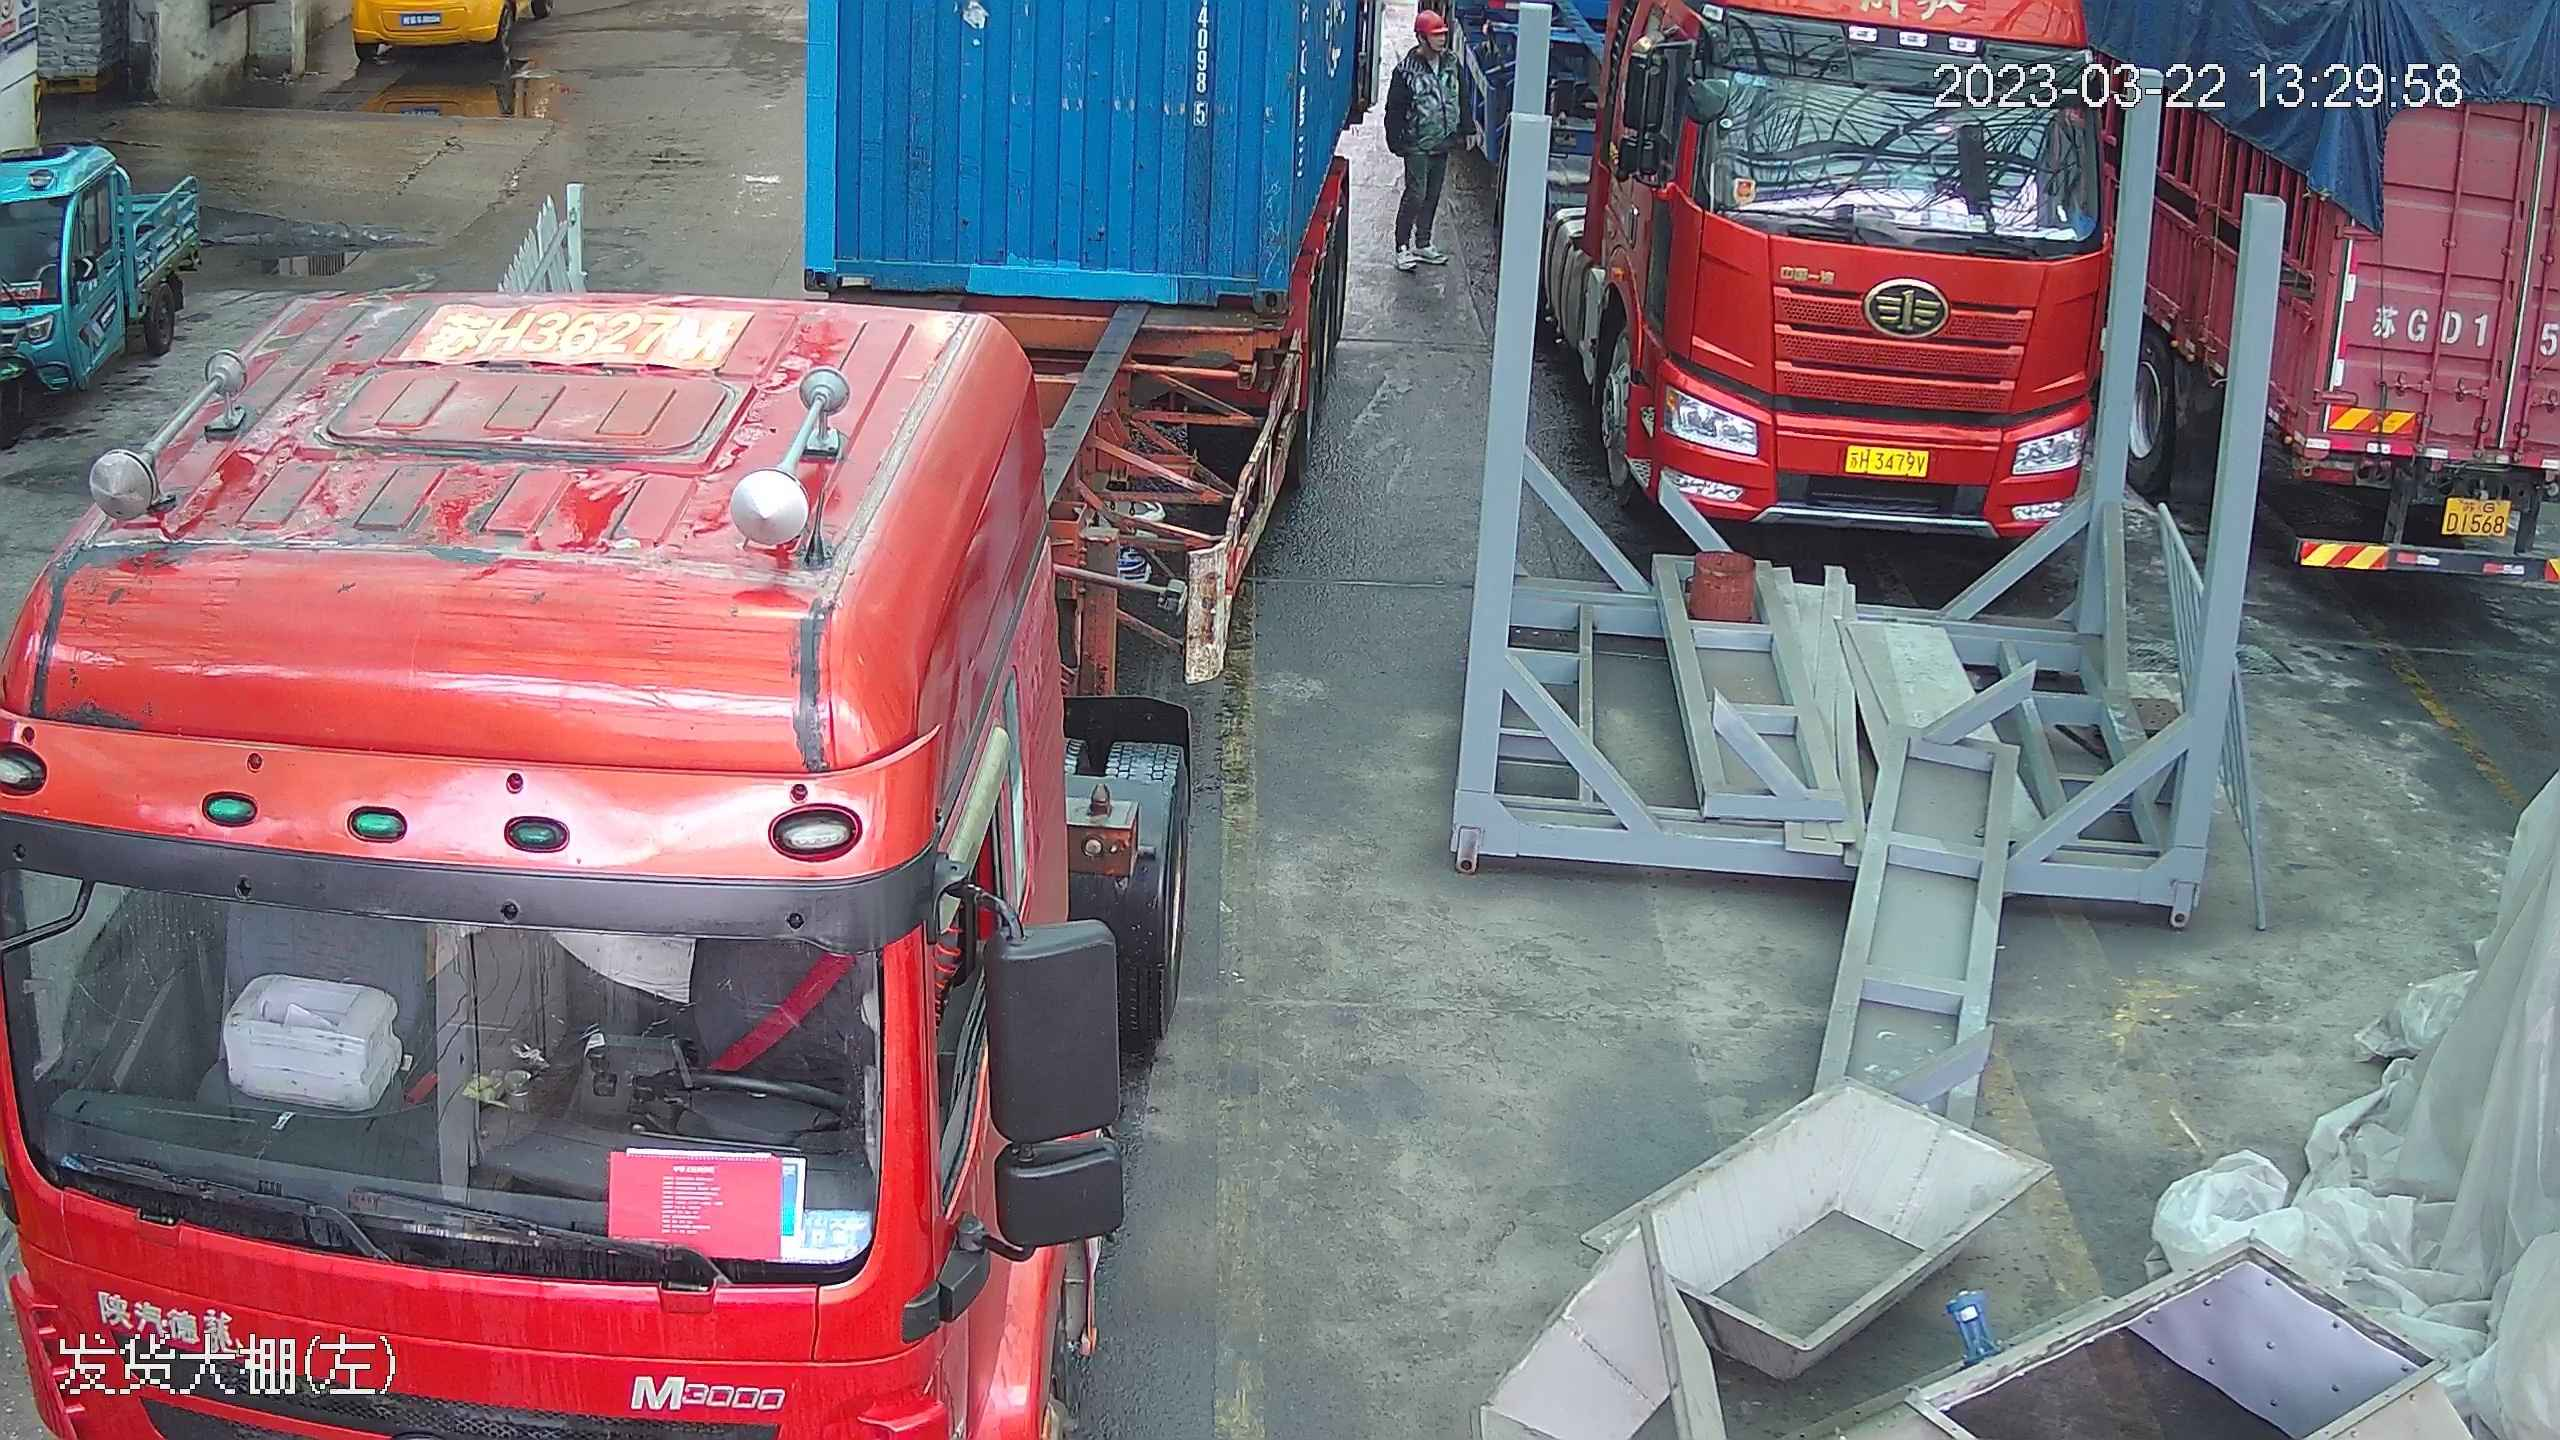head: (1392, 10, 1459, 84)
helmet: (1411, 9, 1447, 34)
people: (1382, 12, 1464, 259), (1469, 6, 1519, 167)
truck: (0, 217, 1263, 1440), (1582, 0, 2134, 555), (2139, 11, 2560, 589)
